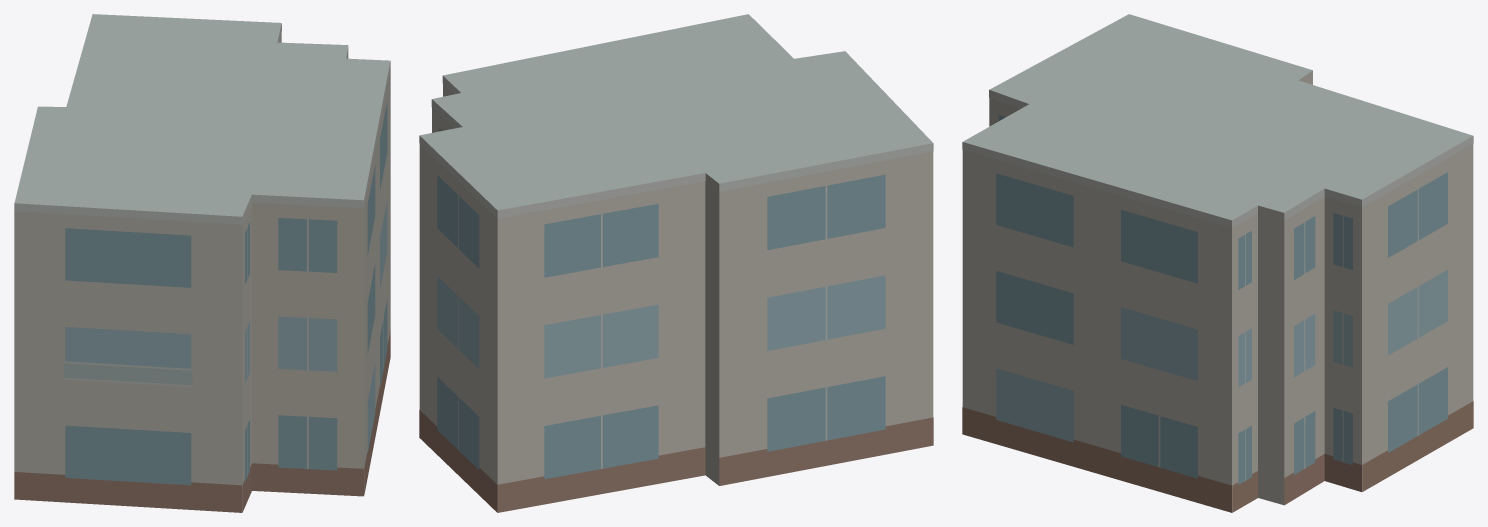
The model's file is survey-upis-33020076.glb.
3 renders of one model, left to right at view 1: azimuth 30°, elevation 25°; view 2: azimuth 150°, elevation 25°; view 3: azimuth 270°, elevation 25°, orthographic. The views are drawn at different scales.
Visible parts, largest first — view 1: survey-upis-33020076.tmp; view 2: survey-upis-33020076.tmp; view 3: survey-upis-33020076.tmp.
Part boxes in pixels (x1,y1,x2,y2): survey-upis-33020076.tmp: (14,14,390,512); survey-upis-33020076.tmp: (419,14,933,512); survey-upis-33020076.tmp: (962,14,1473,512).
Size of the model in its own units: 13.86 by 9.15 by 14.5.
